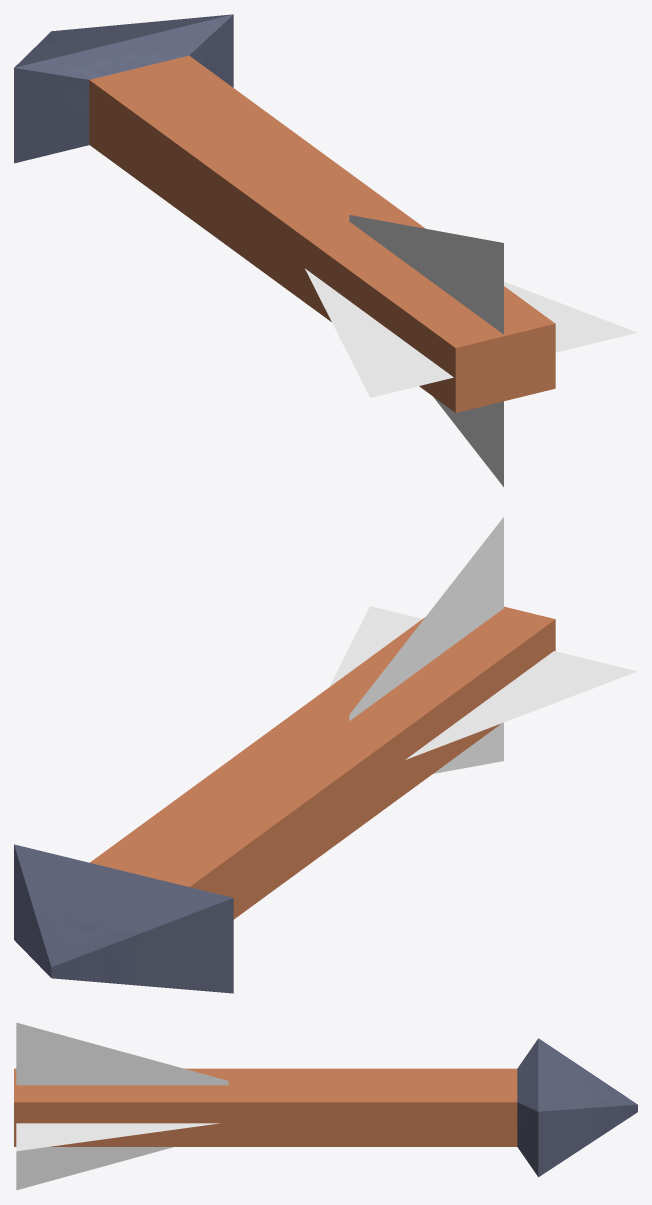
Rendered from Arrow.glb.
The picture shows the model from 3 angles, top to bottom: view 1: azimuth 30°, elevation 25°; view 2: azimuth 150°, elevation 25°; view 3: azimuth 270°, elevation 25°; orthographic projection. The views are drawn at different scales.
Parts seen in each view (by area): view 1: Arrowshaft, Arrowfeathers, Arrowhead; view 2: Arrowshaft, Arrowhead, Arrowfeathers; view 3: Arrowshaft, Arrowfeathers, Arrowhead.
Boxes of the visible parts, bbox=[...] form: Arrowshaft: bbox=[89, 55, 555, 412]; Arrowfeathers: bbox=[305, 215, 637, 486]; Arrowhead: bbox=[14, 14, 233, 163]; Arrowshaft: bbox=[90, 606, 555, 919]; Arrowhead: bbox=[14, 844, 233, 993]; Arrowfeathers: bbox=[329, 517, 637, 773]; Arrowshaft: bbox=[14, 1068, 517, 1146]; Arrowfeathers: bbox=[16, 1022, 228, 1190]; Arrowhead: bbox=[517, 1038, 637, 1177].
Size of the model in its own units: 0.1927 by 0.1682 by 0.5662.
1 material, 1 textured.
